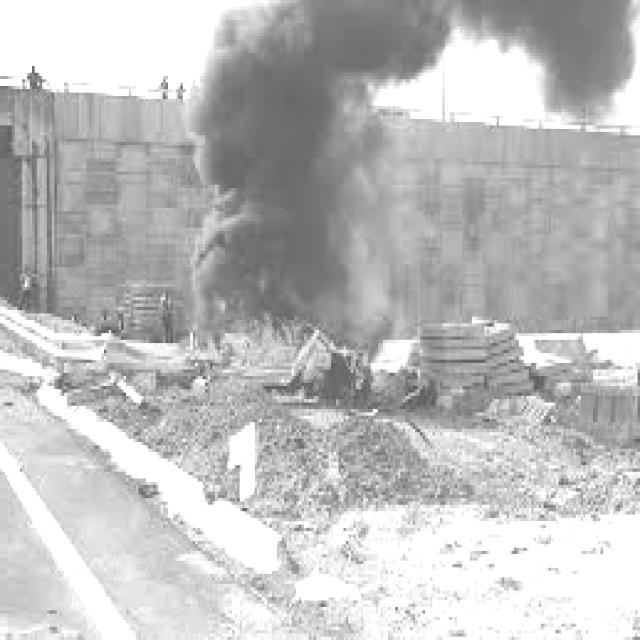fire: (180, 270, 366, 396)
